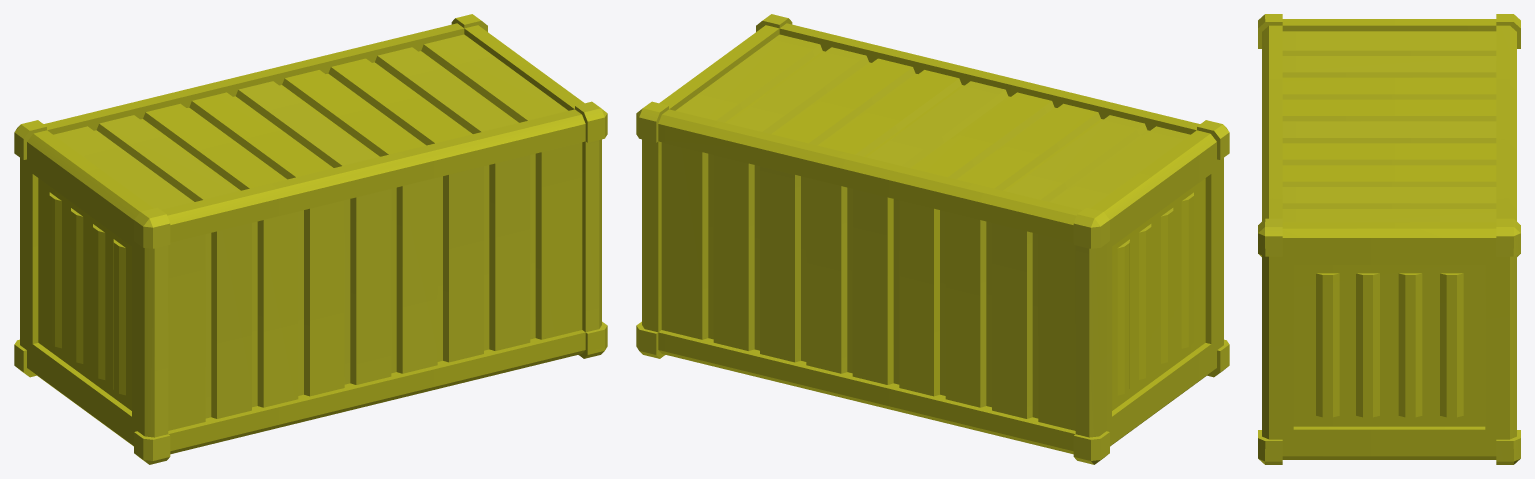
File: Container1.fbx
3 views of the same model, side by side, from view 1: azimuth 30°, elevation 25°; view 2: azimuth 150°, elevation 25°; view 3: azimuth 270°, elevation 25° (orthographic). The views are drawn at different scales.
Visible parts, largest first — view 1: Container1; view 2: Container1; view 3: Container1.
Part boxes in pixels (x1=…): Container1: x1=14, y1=14, x2=607, y2=464; Container1: x1=636, y1=14, x2=1229, y2=464; Container1: x1=1258, y1=14, x2=1520, y2=464.
Bounding box in the file's own units: 310 × 157 × 157.
